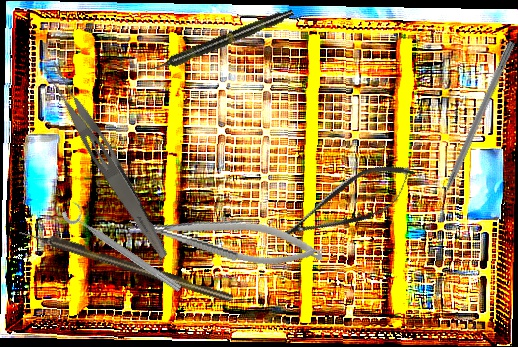Dressing Forceps: (37, 57, 178, 262)
Fixation Ring: (59, 198, 189, 296)
Handpiece: (147, 6, 296, 76)
Hook Surgical: (17, 224, 234, 305)
Micro Scissor: (266, 150, 426, 260)
Needle Holder: (125, 198, 328, 278)
Pusher: (429, 39, 516, 219)
